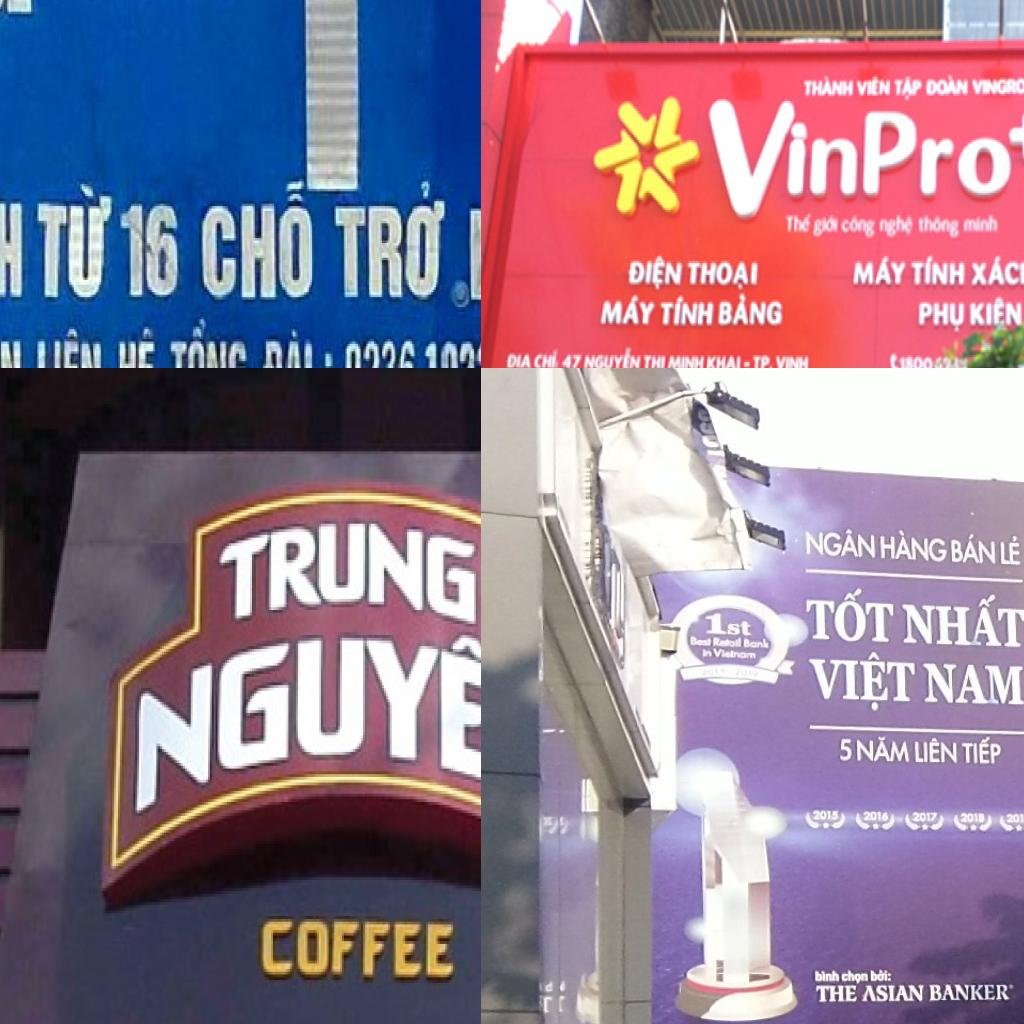text: (133, 626, 481, 832), (701, 94, 1019, 222), (216, 518, 480, 632), (199, 176, 317, 304), (330, 182, 447, 302), (33, 184, 118, 304), (804, 648, 916, 713), (901, 590, 1024, 648), (118, 199, 182, 302), (804, 585, 896, 644), (922, 661, 1024, 705), (167, 319, 251, 368), (345, 341, 481, 368), (260, 327, 336, 368), (35, 327, 104, 368), (715, 292, 786, 331), (686, 258, 760, 292), (879, 528, 949, 563), (805, 526, 877, 560), (597, 292, 658, 330), (849, 251, 908, 289), (625, 255, 685, 292), (909, 251, 967, 289), (657, 294, 716, 330), (113, 326, 159, 368), (970, 254, 1024, 288), (969, 297, 1024, 329), (917, 299, 967, 333), (950, 532, 997, 565), (928, 984, 1013, 1002), (856, 736, 911, 763), (916, 212, 962, 242), (580, 346, 641, 368), (860, 984, 926, 1003), (912, 737, 958, 764), (803, 74, 854, 98), (970, 75, 1024, 97), (1005, 102, 1024, 164), (960, 736, 1002, 764), (926, 74, 969, 98), (878, 213, 914, 241), (855, 74, 894, 99), (840, 214, 877, 239), (814, 984, 858, 1003), (962, 215, 1001, 236), (999, 534, 1023, 566), (665, 350, 707, 368), (895, 76, 922, 104), (0, 336, 23, 368), (812, 214, 840, 238), (785, 214, 815, 236), (704, 352, 742, 368), (713, 647, 758, 660), (533, 348, 561, 368), (776, 353, 813, 368), (507, 350, 534, 368), (559, 350, 585, 368), (643, 349, 666, 368), (841, 969, 869, 984), (752, 350, 775, 368), (839, 738, 854, 762), (742, 637, 770, 649), (912, 811, 940, 823), (814, 970, 841, 982), (812, 810, 840, 821), (870, 969, 893, 982), (961, 812, 986, 823), (863, 811, 889, 821), (1005, 813, 1024, 823), (702, 648, 713, 658), (688, 636, 698, 646), (735, 636, 742, 648), (743, 360, 752, 368), (713, 638, 721, 646)
